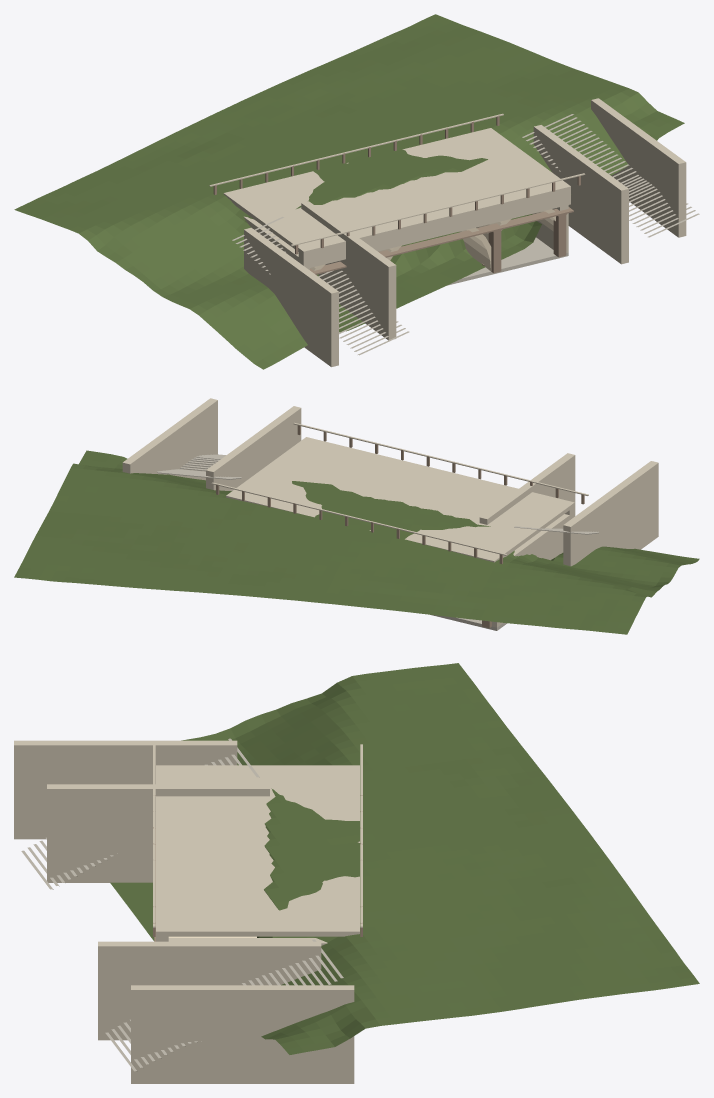
File: cp_bethesda_terrace.glb
3 views of the same model, one above another, from view 1: azimuth 30°, elevation 25°; view 2: azimuth 150°, elevation 25°; view 3: azimuth 270°, elevation 25° (orthographic). The views are drawn at different scales.
Parts seen in each view (by area): view 1: BethesdaTerrace; view 2: BethesdaTerrace; view 3: BethesdaTerrace.
Boxes of the visible parts, x1,y1,x2,y2 form: BethesdaTerrace: [14, 14, 699, 369]; BethesdaTerrace: [14, 398, 699, 634]; BethesdaTerrace: [14, 663, 699, 1083].
Size of the model in its own units: 55.83 by 7.2 by 43.01.
